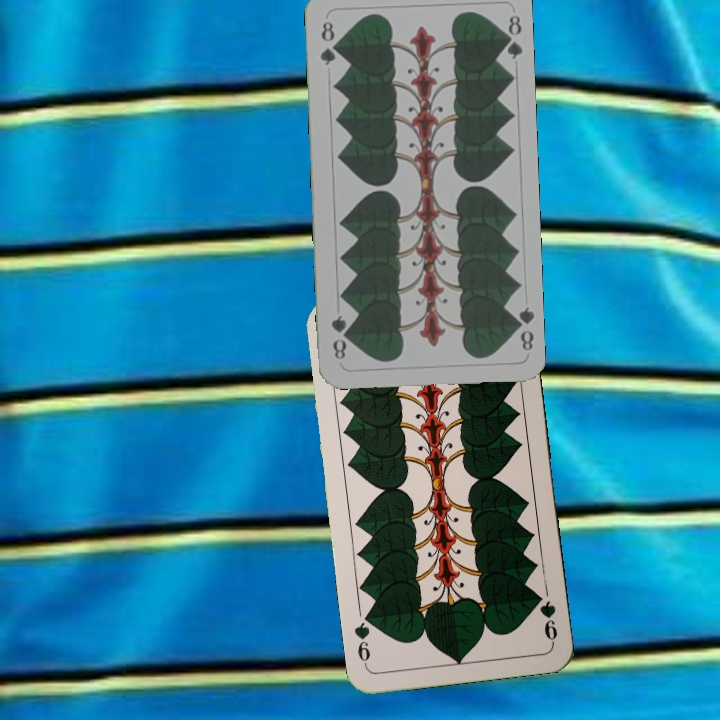G8: (508, 303, 536, 353), (316, 17, 340, 68)
G9: (531, 588, 560, 646)
